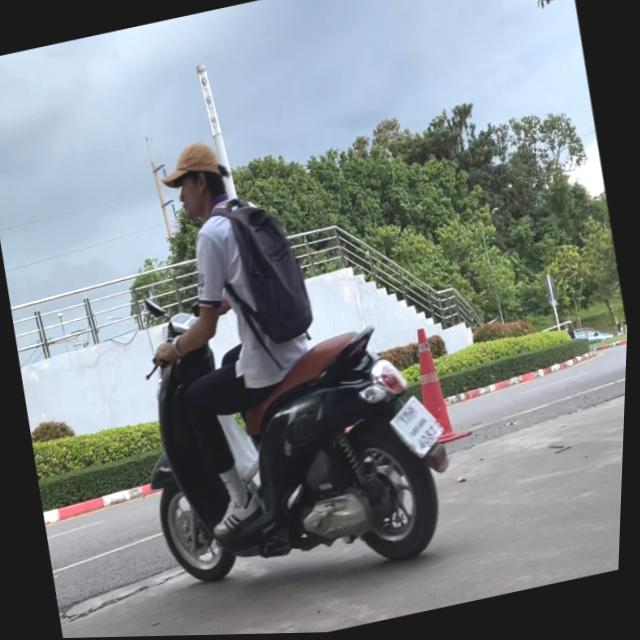seatbelt: (155, 135, 240, 229)
